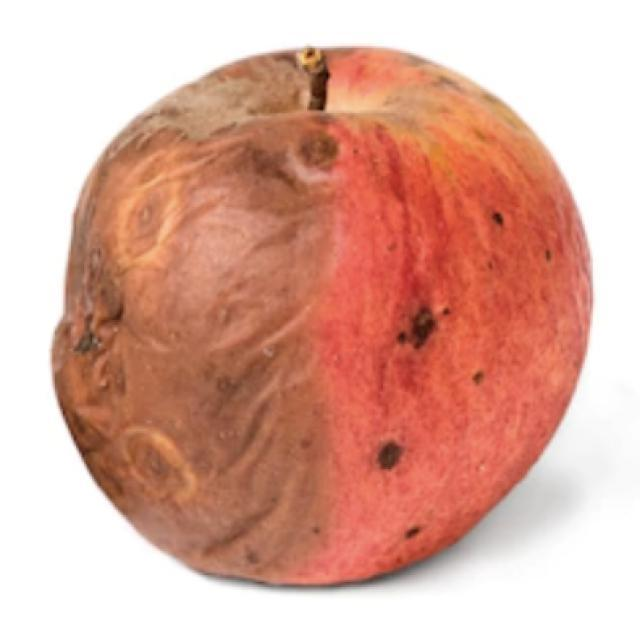Rotten: (70, 40, 583, 560)
